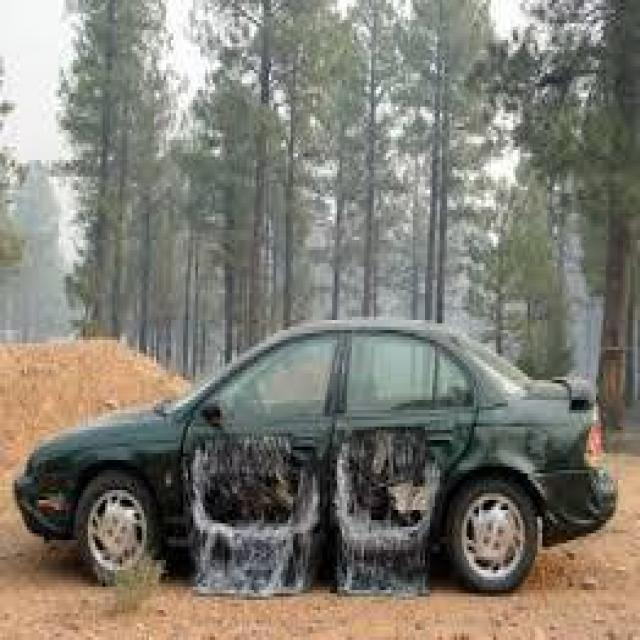damaged: (186, 429, 447, 554), (435, 416, 496, 474)
